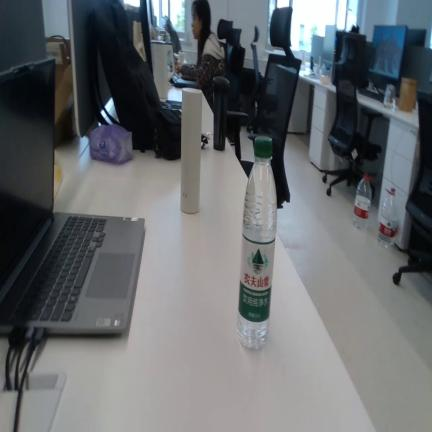bottle: (237, 136, 277, 349), (378, 187, 399, 247), (353, 173, 373, 230)
